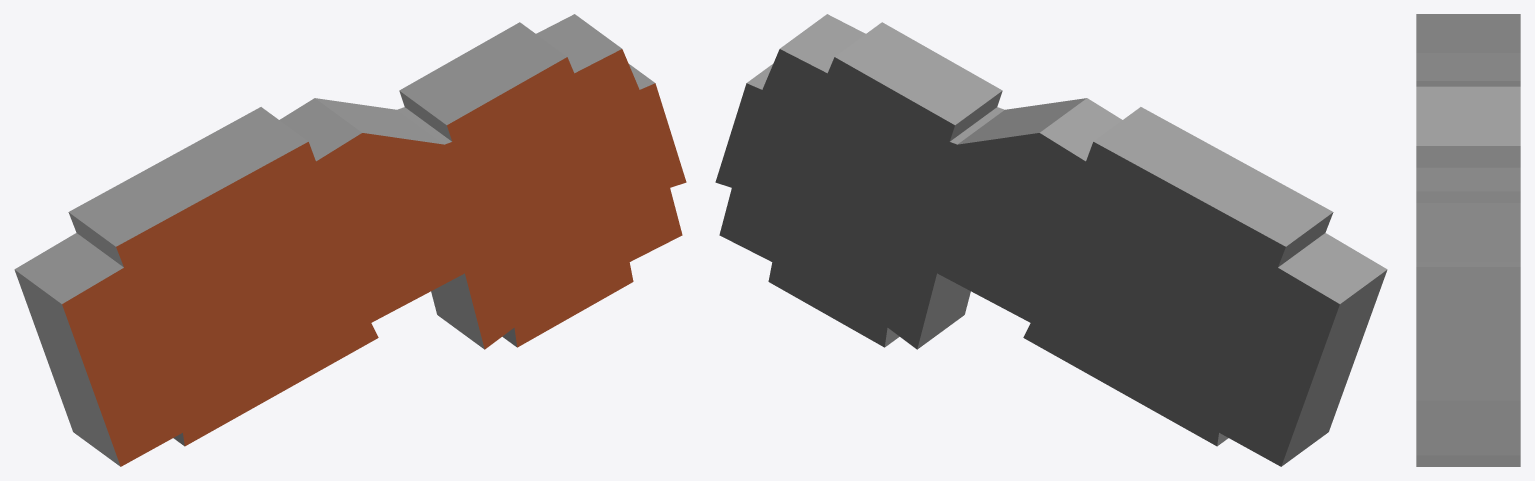
Rendered from construction_4784_assumed_A_Casa_h6m.obj.
3 views of the same model, side by side, from view 1: azimuth 30°, elevation 25°; view 2: azimuth 150°, elevation 25°; view 3: azimuth 270°, elevation 25° (orthographic). The views are drawn at different scales.
Visible parts, largest first — view 1: construction_4784_assumed_A_Casa; view 2: construction_4784_assumed_A_Casa; view 3: construction_4784_assumed_A_Casa.
Boxes of the visible parts, x1,y1,x2,y2 form: construction_4784_assumed_A_Casa: (14, 14, 686, 466); construction_4784_assumed_A_Casa: (715, 14, 1387, 466); construction_4784_assumed_A_Casa: (1416, 14, 1520, 466).
Size of the model in its own units: 45.48 by 20.94 by 6.
